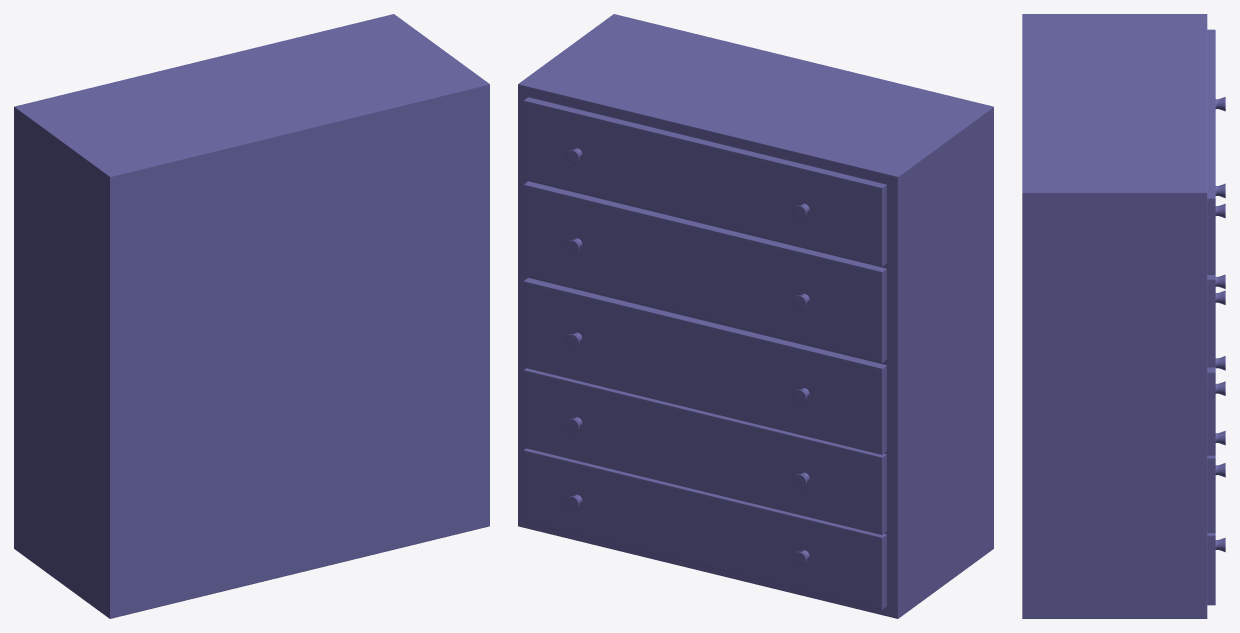
File: high dresser.fbx
The picture shows the model from 3 angles, left to right: view 1: azimuth 30°, elevation 25°; view 2: azimuth 150°, elevation 25°; view 3: azimuth 270°, elevation 25°; orthographic projection. The views are drawn at different scales.
Visible parts, largest first — view 1: higher_dresser; view 2: higher_dresser; view 3: higher_dresser.
Boxes of the visible parts, box(x1,y1,x2,y2) form: higher_dresser: box(14, 14, 489, 618); higher_dresser: box(518, 14, 993, 618); higher_dresser: box(1022, 14, 1225, 618).
Size of the model in its own units: 22.57 by 25.09 by 10.86.
